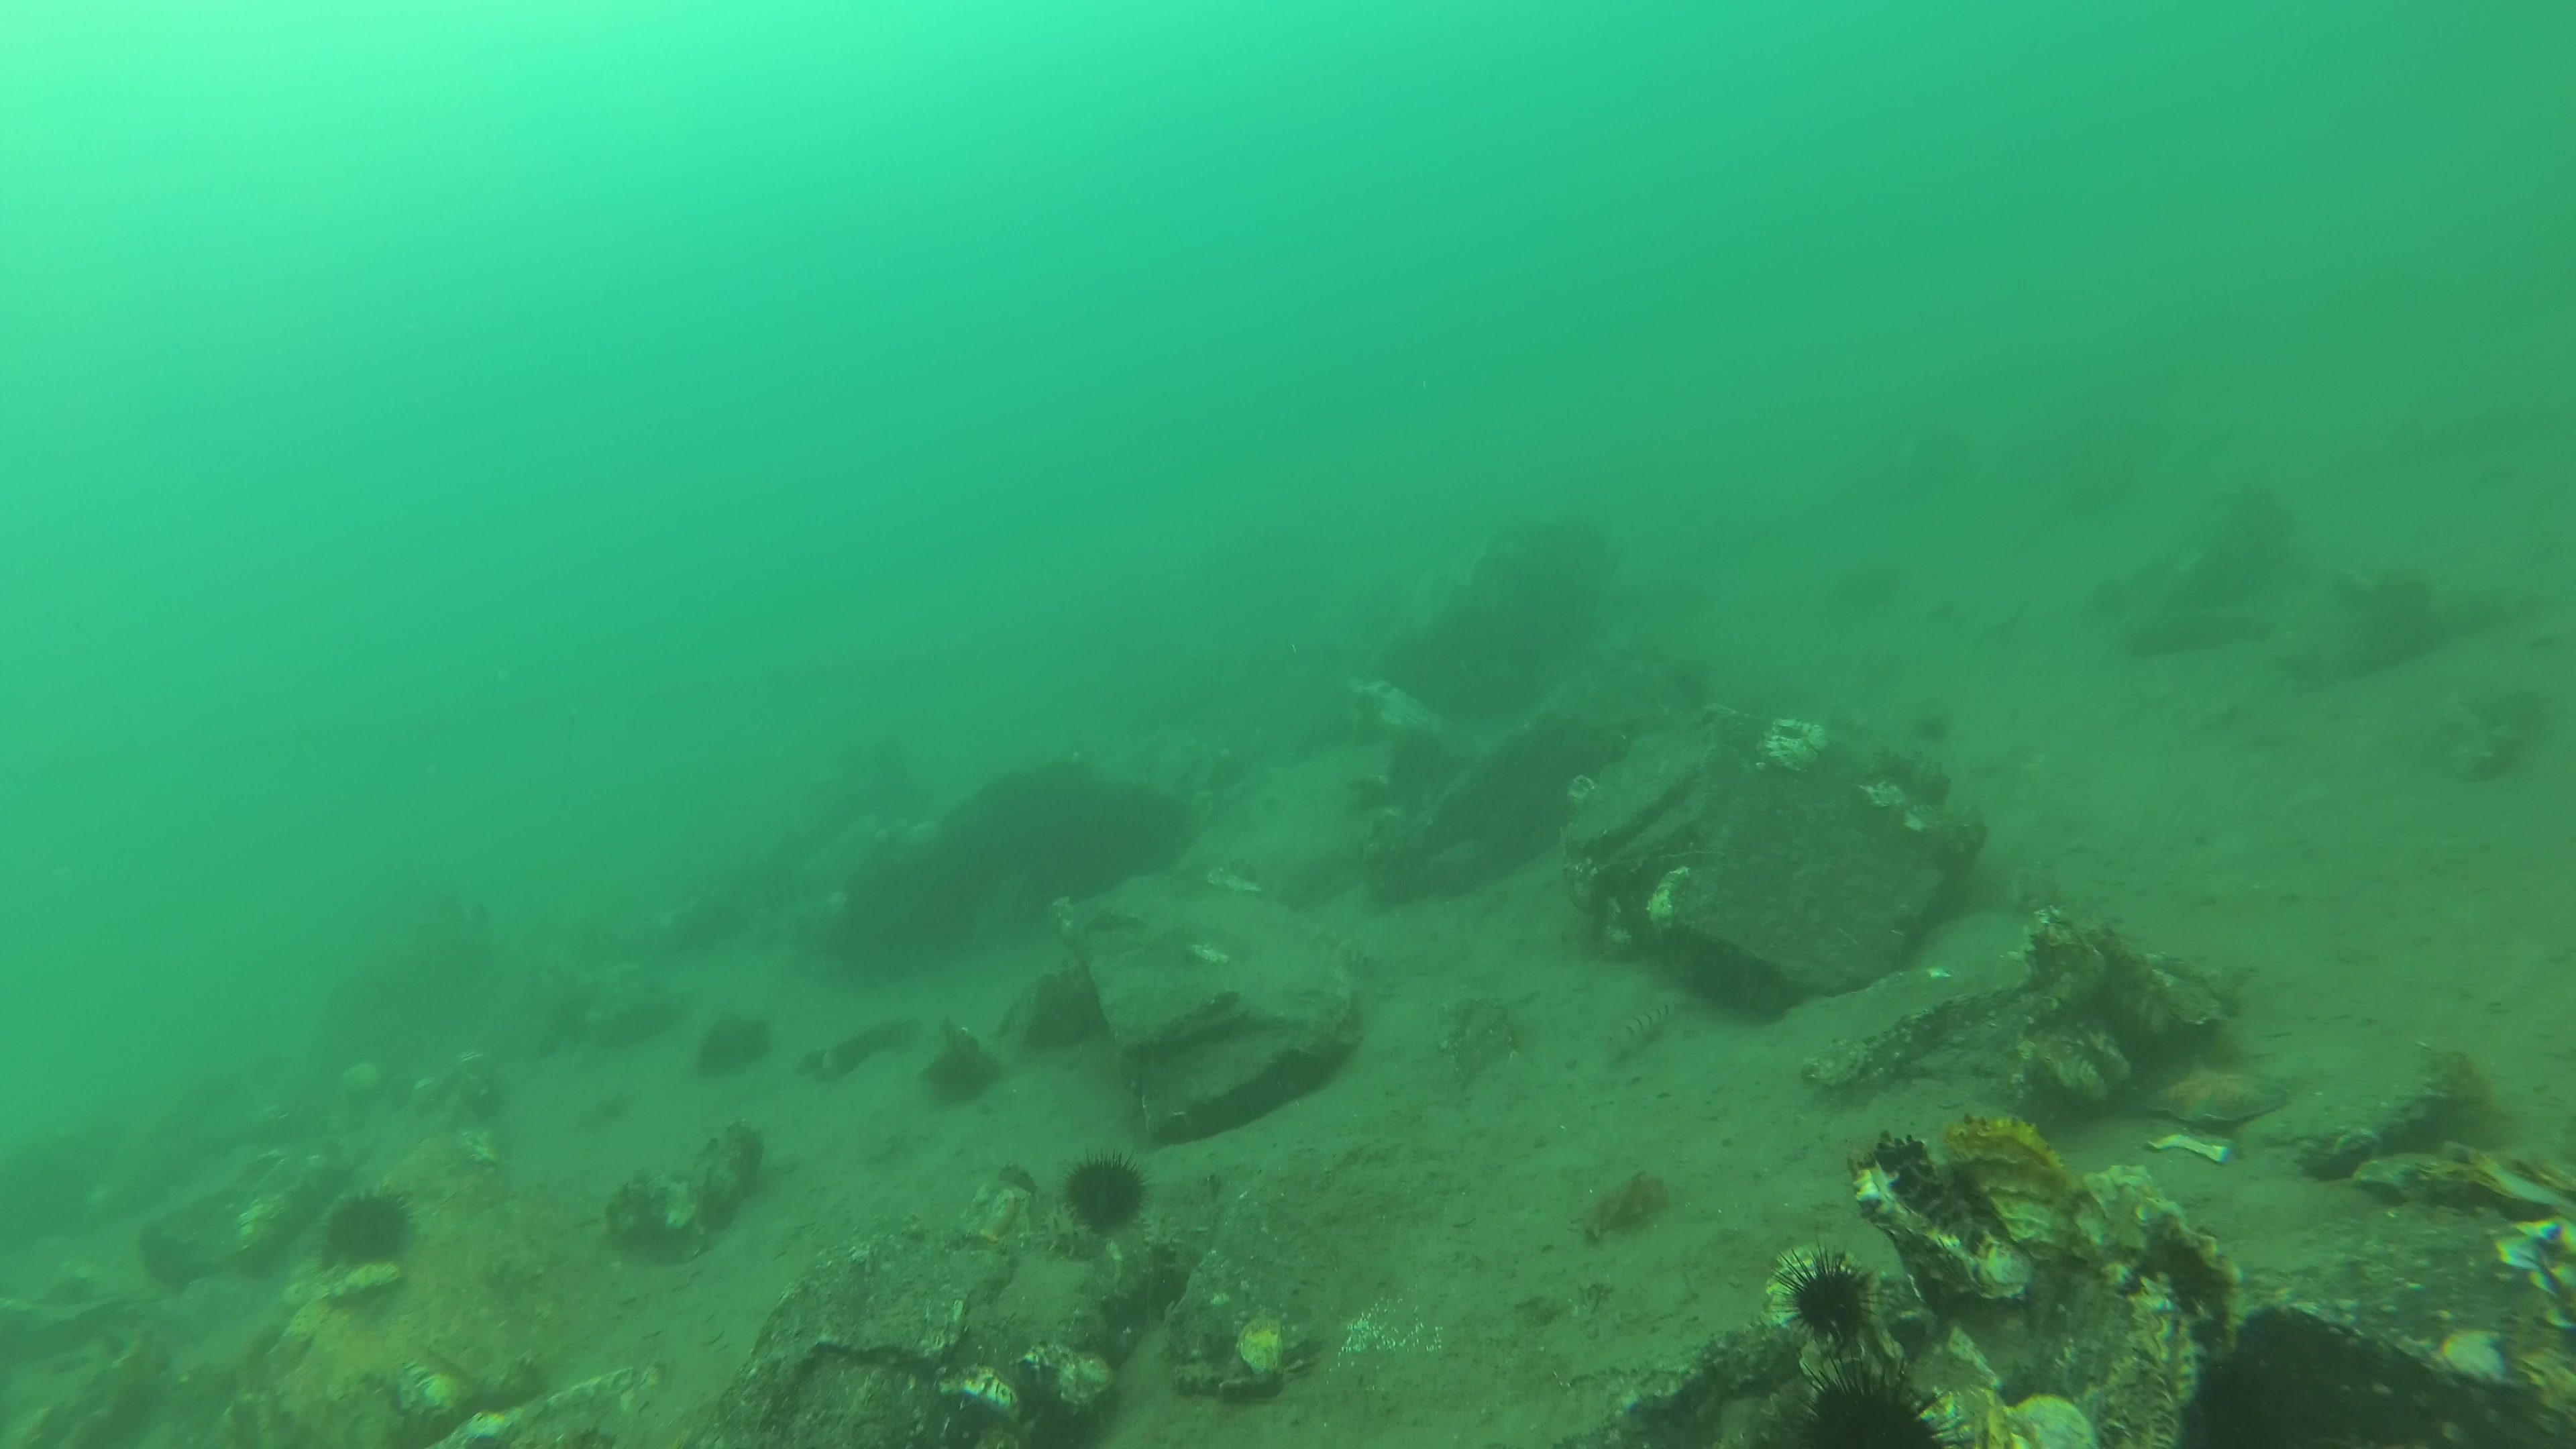echinus: (1771, 1352, 1960, 1444), (1780, 1242, 1893, 1368), (911, 1031, 1008, 1123), (678, 1003, 775, 1095), (1062, 1148, 1157, 1240), (318, 1191, 419, 1265)
